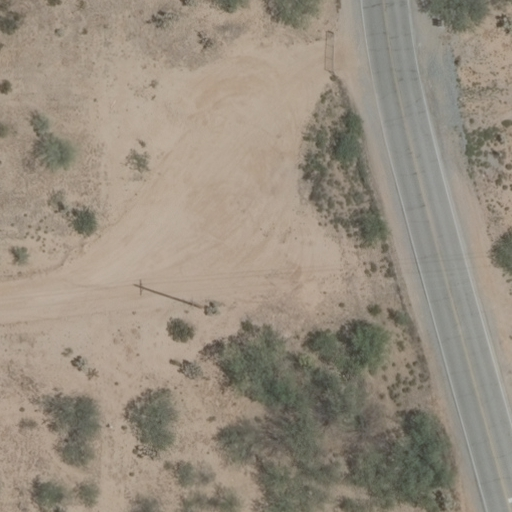DT: (183, 296, 206, 315)
